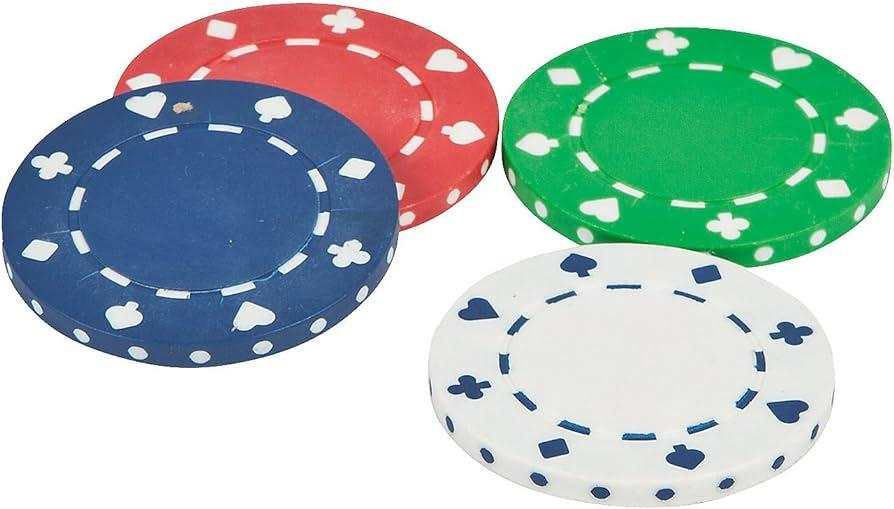chip-blue: (2, 80, 398, 366)
chip-green: (503, 28, 892, 265)
chip-red: (116, 3, 498, 228)
chip-white: (430, 244, 835, 505)
